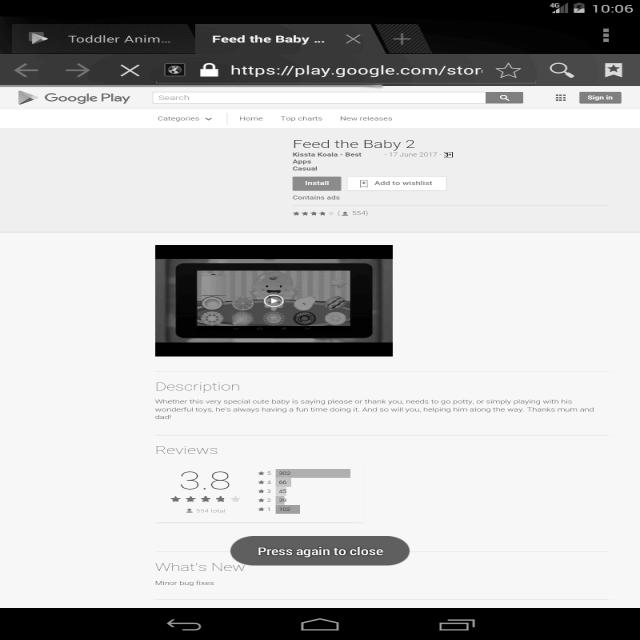Button: (287, 174, 344, 192), (573, 89, 625, 107)
ImageView: (156, 245, 398, 353), (272, 462, 362, 516)
RatingBar: (167, 492, 246, 506), (286, 207, 336, 219)
TextView: (148, 377, 602, 425), (251, 544, 394, 559), (288, 136, 422, 152)
